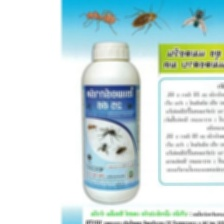insecticide: (78, 39, 143, 205)
